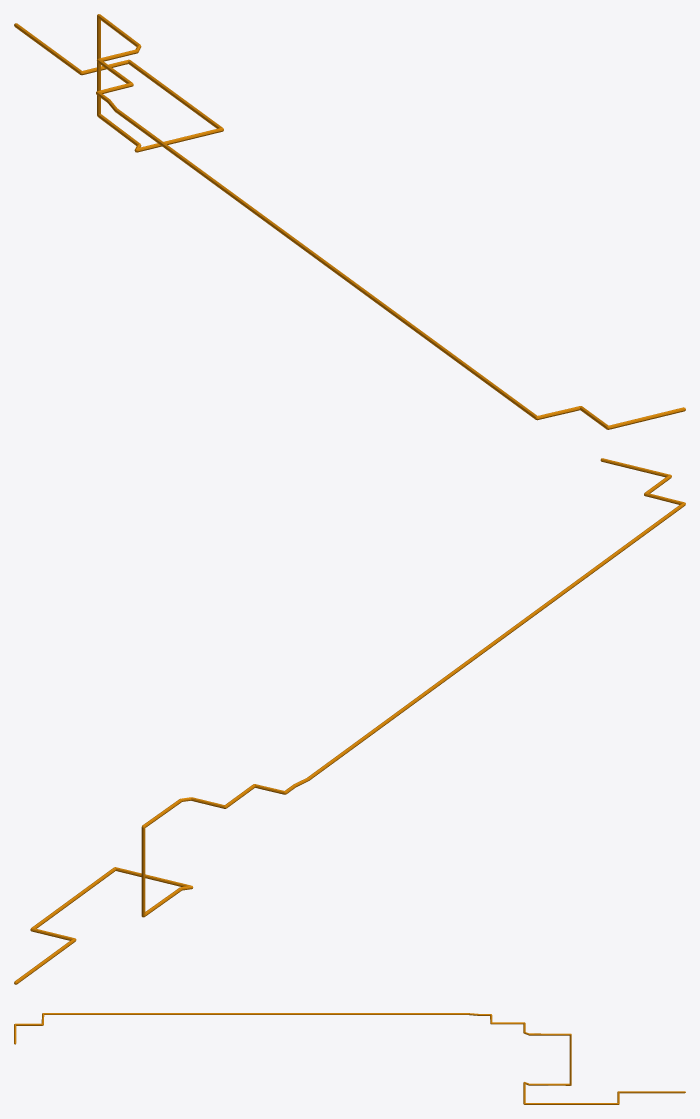
3 views of the same model, one above another, from view 1: azimuth 30°, elevation 25°; view 2: azimuth 150°, elevation 25°; view 3: azimuth 270°, elevation 25° (orthographic). The views are drawn at different scales.
Size of the model in its own units: 869 by 520 by 6076.
